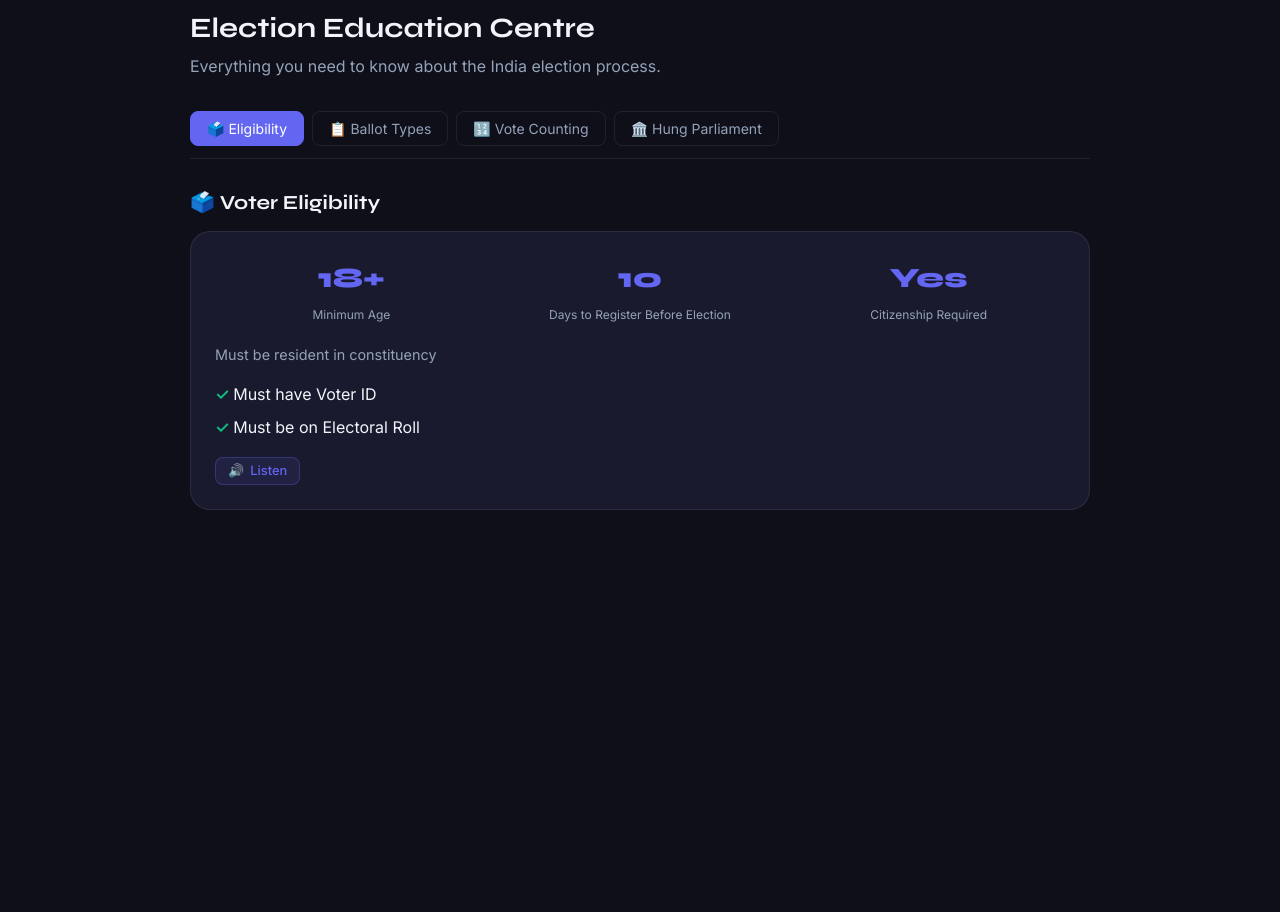
it: TutorPage › switches to Hung Parliament tab on click
The width and height of the screenshot is (1280, 912).
Click the tab "🏛️ Hung Parliament" at (696, 129), box [614, 111, 779, 146]
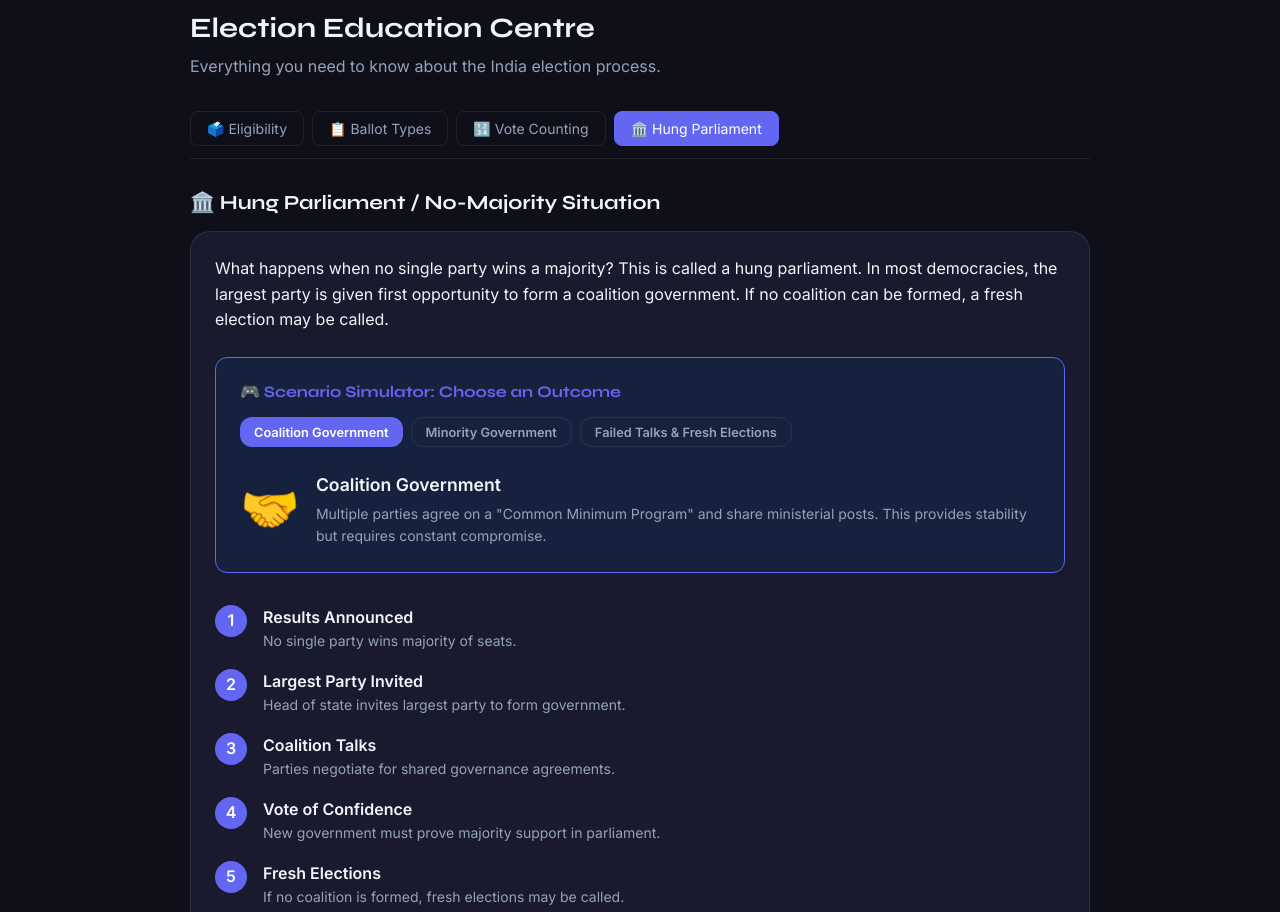
Expected: the heading "🏛️ Hung Parliament / No-Majority Situation" is shown, [190, 190, 660, 215]
